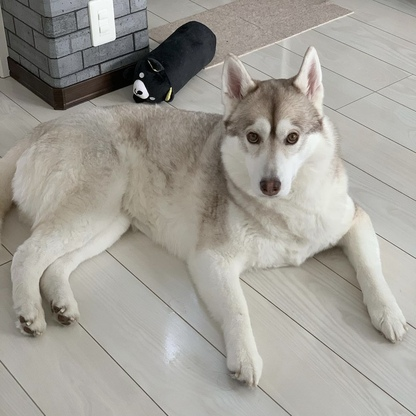husky: (1, 43, 411, 394)
